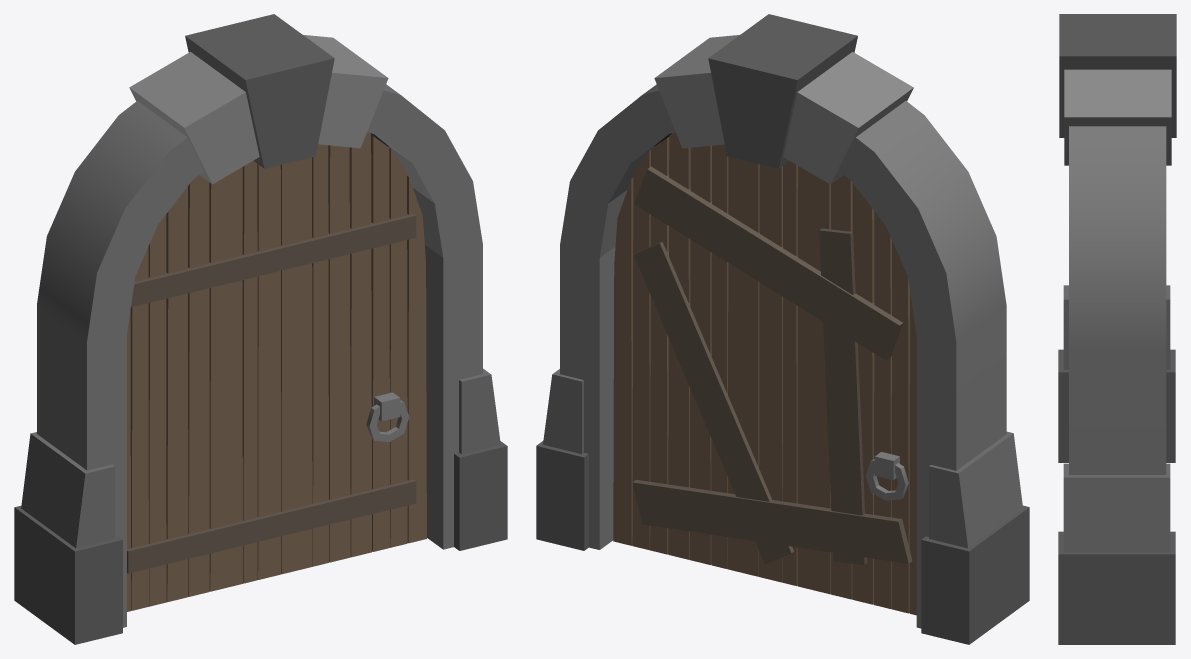
The model's file is Castle_Door_1-2.fbx.
The picture shows the model from 3 angles, left to right: view 1: azimuth 30°, elevation 25°; view 2: azimuth 150°, elevation 25°; view 3: azimuth 270°, elevation 25°; orthographic projection. The views are drawn at different scales.
Visible parts, largest first — view 1: pCube2534; view 2: pCube2534; view 3: pCube2534.
Boxes of the visible parts, x1,y1,x2,y2 form: pCube2534: (14, 14, 507, 644); pCube2534: (536, 14, 1029, 644); pCube2534: (1058, 14, 1176, 644).
Size of the model in its own units: 2.84 by 3.29 by 0.6937.
